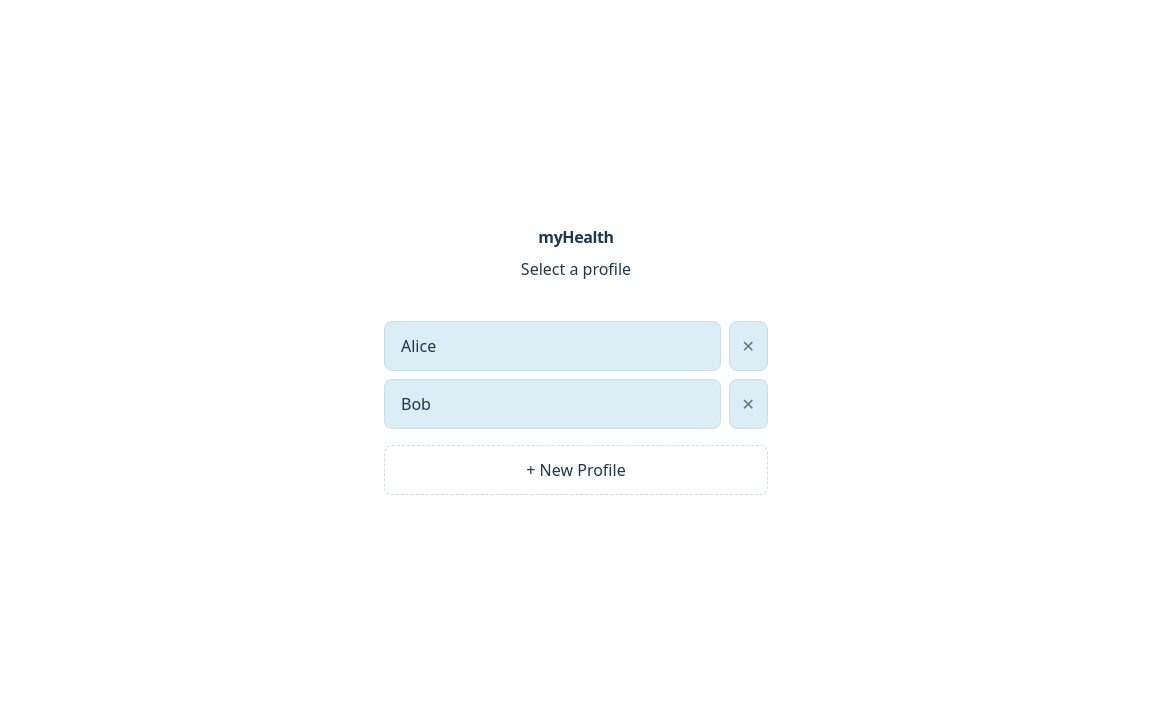
Test: ProfilesPage — delete flow › closes dialog on cancel without deleting
Click the 1st button with test id "delete-profile-btn" at (748,346), box x1=729 y1=321 x2=768 y2=371
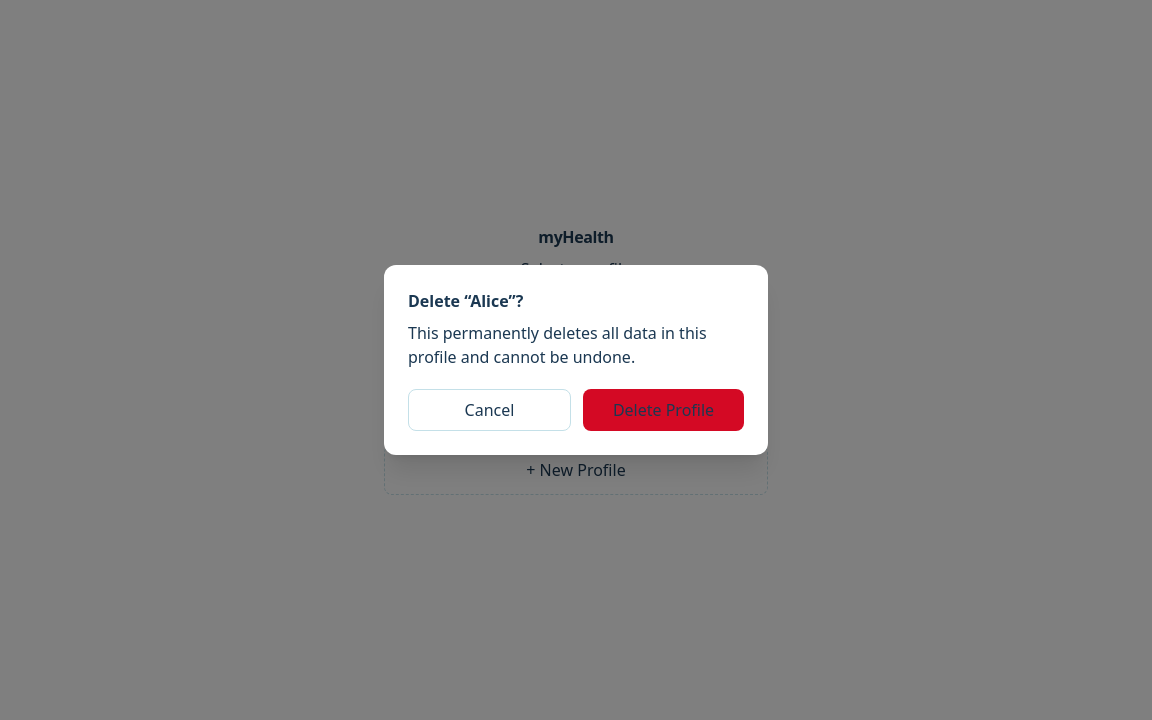
Check: the dialog is shown
Click the button "Cancel" at (490,410), box x1=408 y1=389 x2=571 y2=431
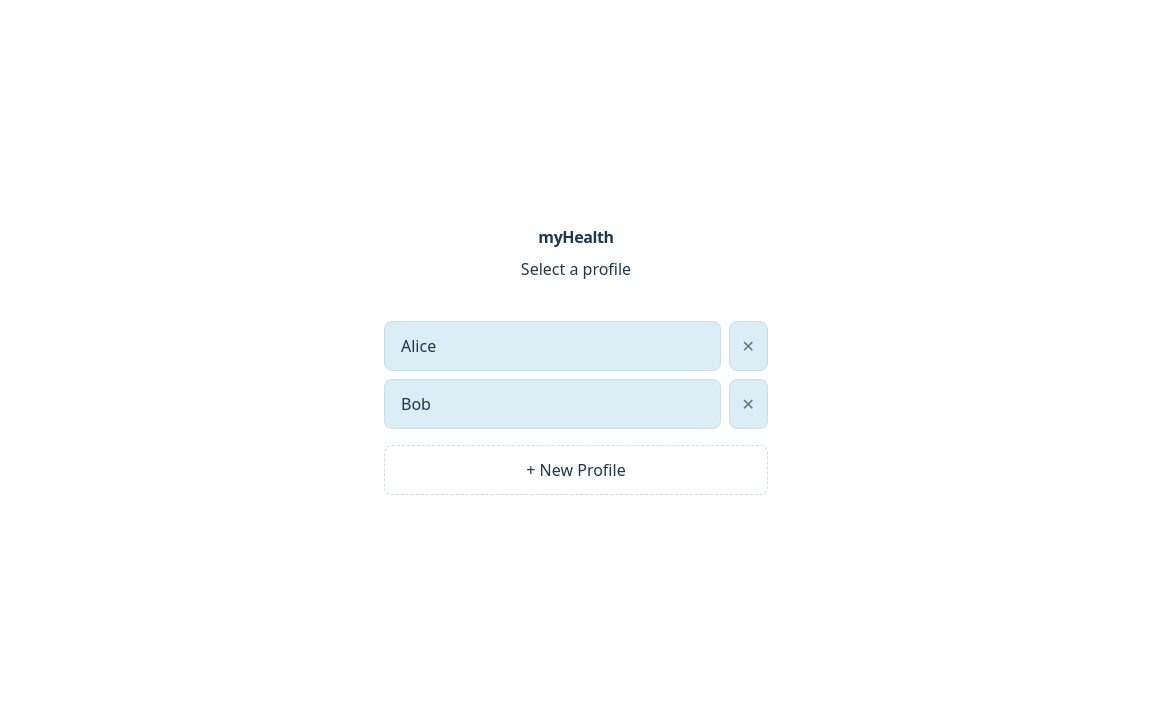
Check: the number of elements with test id "profile-item" is 2, box x1=384 y1=321 x2=768 y2=371; x1=384 y1=379 x2=768 y2=429
Check: the dialog is gone
